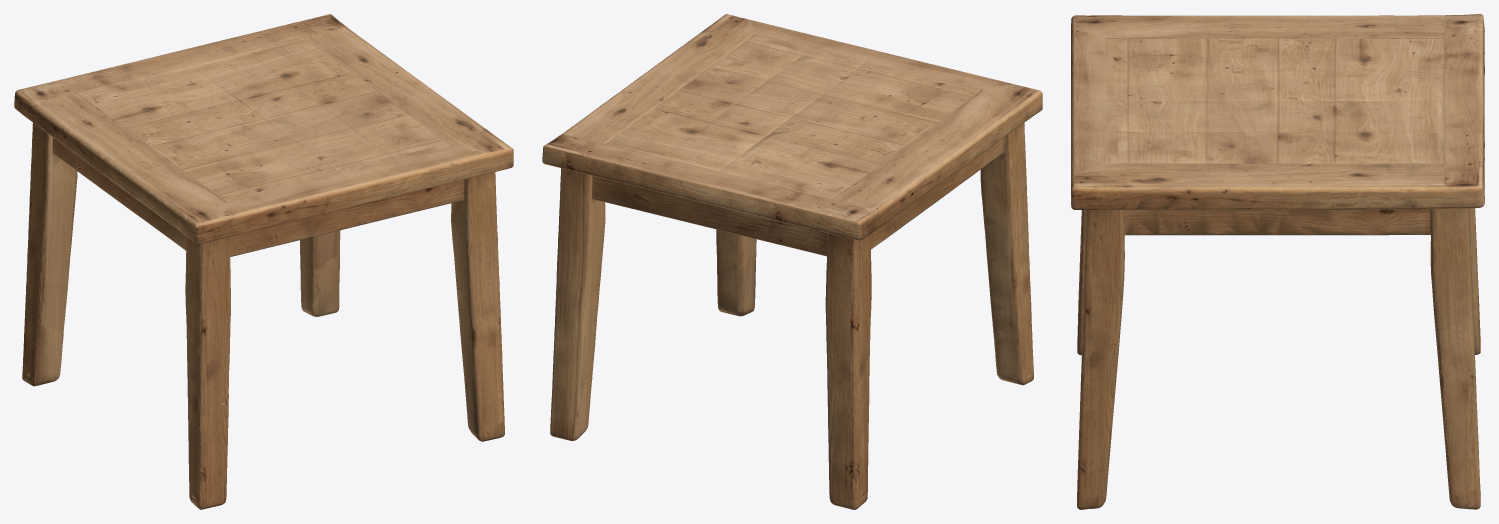
File: dining-table.glb
3 renders of one model, left to right at view 1: azimuth 30°, elevation 25°; view 2: azimuth 150°, elevation 25°; view 3: azimuth 270°, elevation 25°, orthographic. The views are drawn at different scales.
Visible parts, largest first — view 1: geometry_0; view 2: geometry_0; view 3: geometry_0.
Part boxes in pixels (x1,y1,x2,y2): geometry_0: [14, 14, 513, 509]; geometry_0: [542, 14, 1042, 509]; geometry_0: [1071, 14, 1484, 509].
Bounding box in the file's own units: 0.9 × 0.7876 × 0.9001.
1 material, 1 textured.
